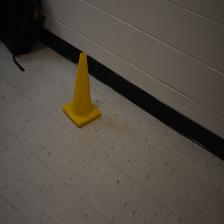cone: (62, 53, 101, 127)
